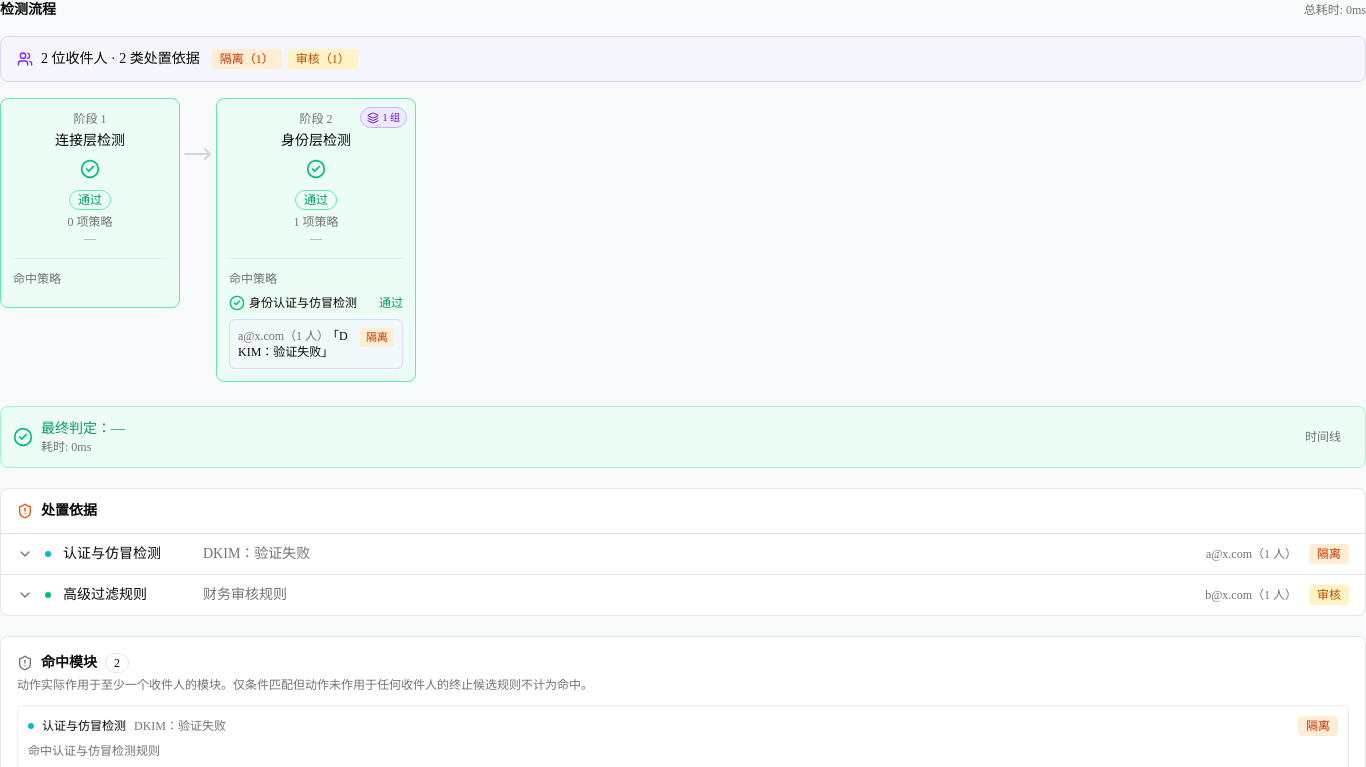
Test: 命中模块清单（GT-12727 §7.10） › GT-13660：按收件人分组的折叠、展开与检测阶段摘要保持相同友好名称
Expected: the element with test id "analysis-stage-2-basis-groups" shows "DKIM：验证失败", [238,329,348,359]
Expected: the element with test id "analysis-stage-2-basis-groups" does not show "sysrule:", [229,319,403,369]
Click the button with test id "analysis-disposal-basis-row-0": (112, 554) [1,534,1365,574]
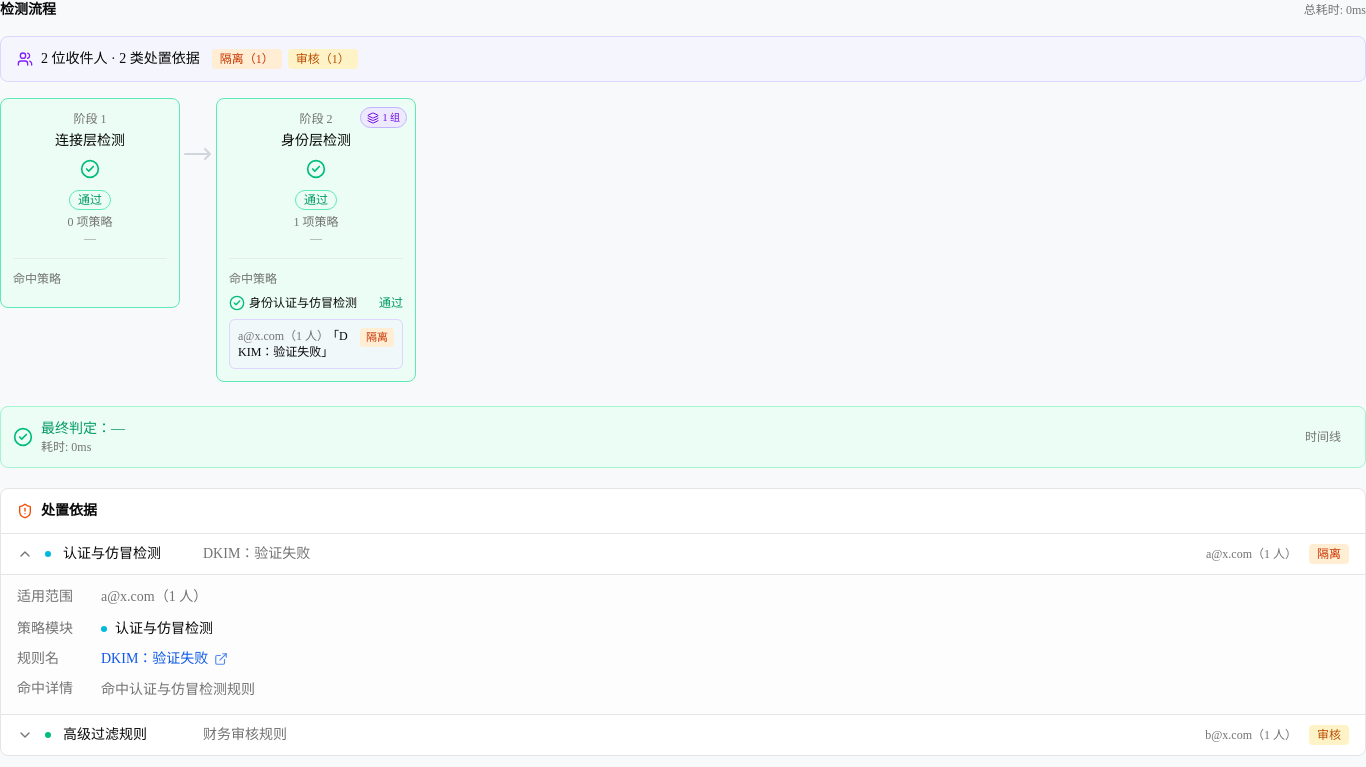
Expected: the element with test id "analysis-disposal-basis-0" does not show "sysrule:", [1,574,1365,714]
Now the element with test id "analysis-disposal-basis-0" shows "DKIM：验证失败", box [101,649,1349,669]
Now the element with test id "analysis-disposal-basis-0" shows "a@x.com", box [101,589,207,604]
Click the button with test id "analysis-disposal-basis-row-0": (112, 554) [1,534,1365,574]
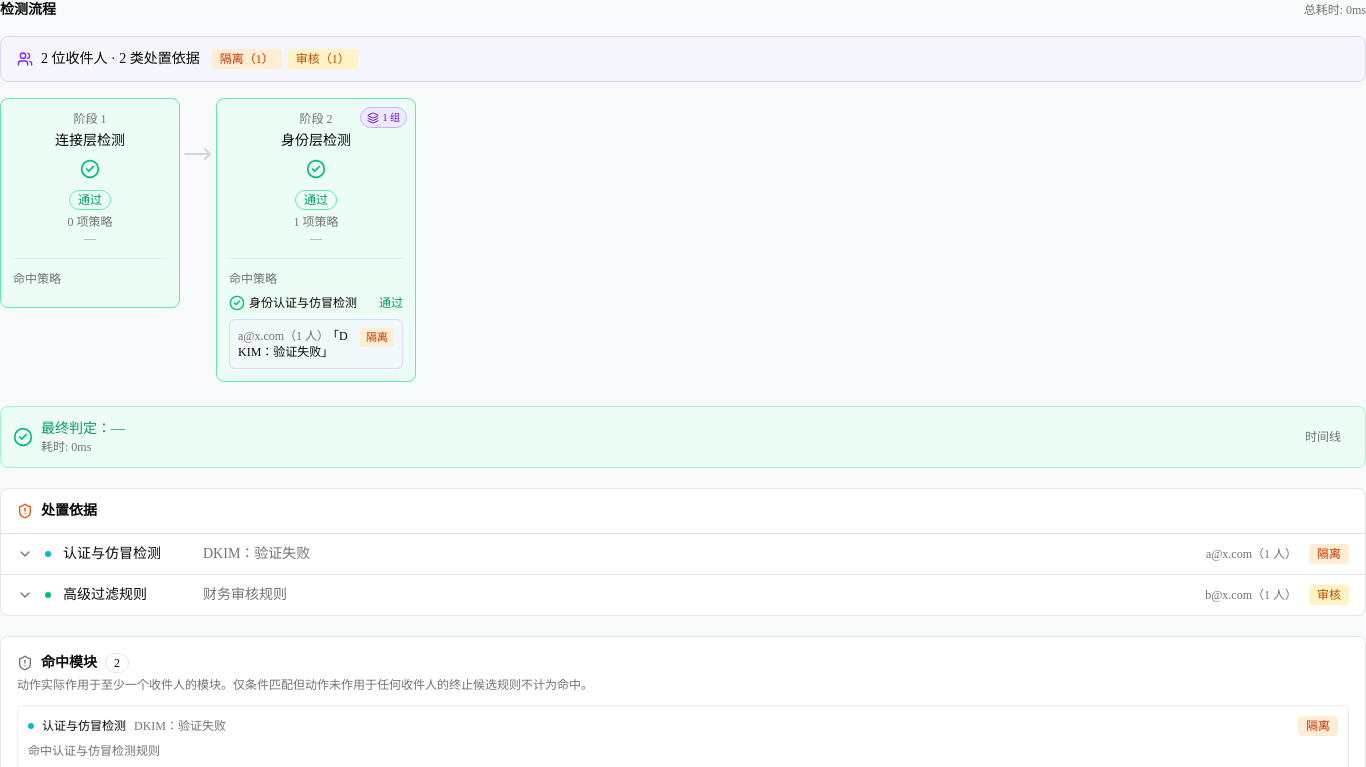
Now the element with test id "analysis-disposal-basis-0" is gone
